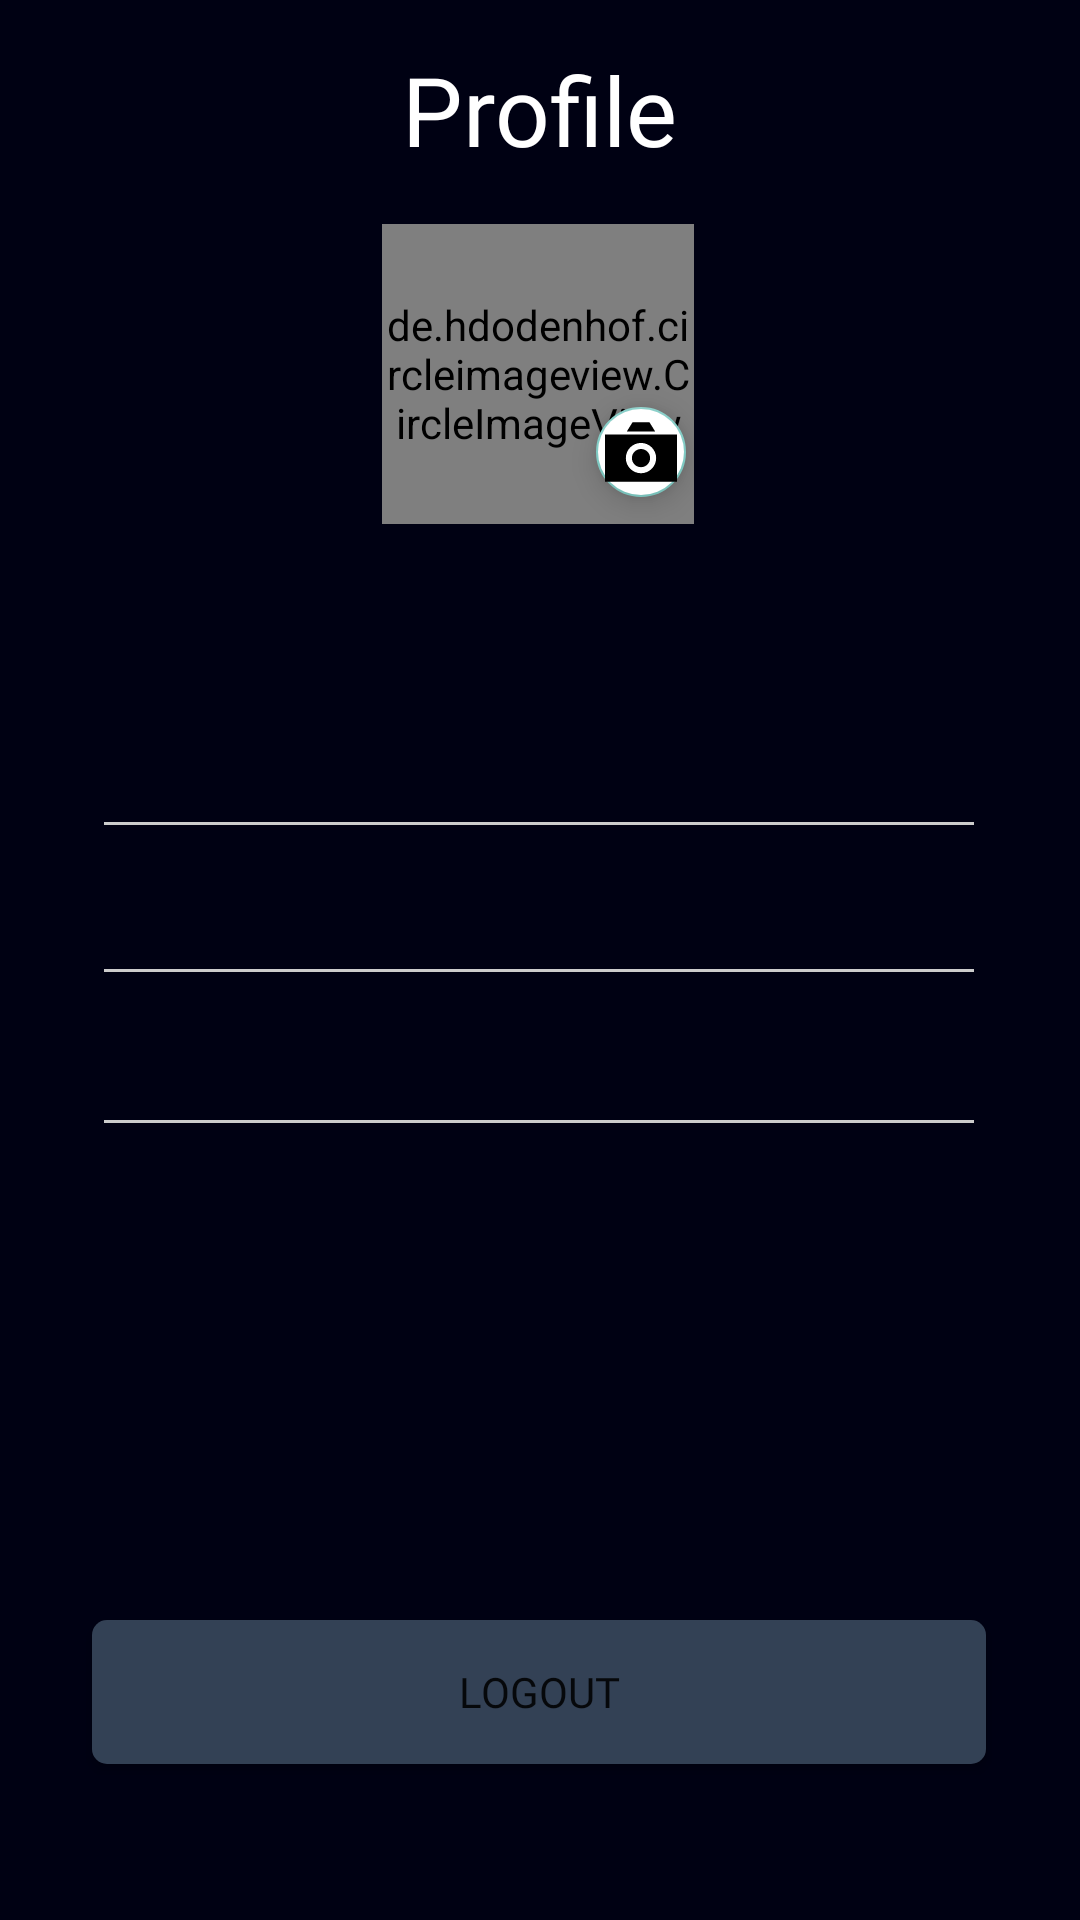

Icons on this 1080x1920 Android screen, each with its box as (x1, y1, x2, y2):
camera: (569, 380, 694, 524)
